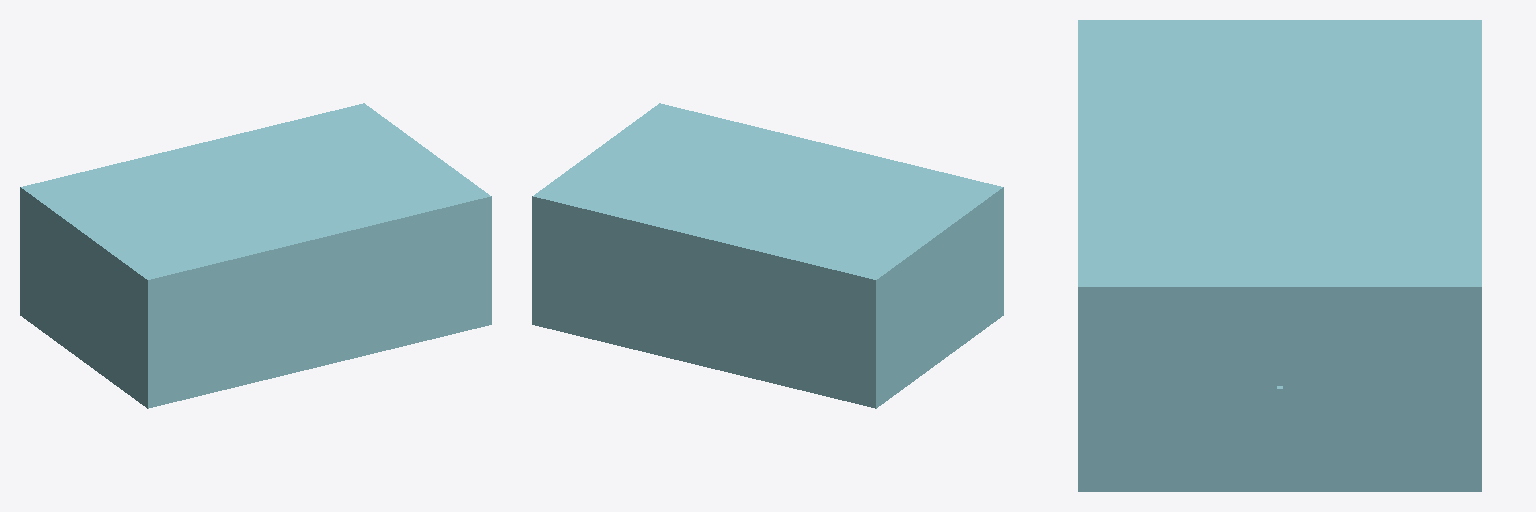
The robot description file, URDF, robot "cuboid_eraser_v7003":
<?xml version="1.0"?>
<robot name="cuboid_eraser_v7003">

  <link name="cuboid_eraser_v7003">
    <!-- Handle -->
    <visual>
      <origin xyz="0 0 0" rpy="0 0 0"/>
      <geometry>
        <box size="0.09784251387276115 0.06266723355720298 0.034947182555945276"/>
      </geometry>
      <material name="material">
        <color rgba="0.639 0.847 0.882 1.0"/>
      </material>
    </visual>
    <collision>
      <origin xyz="0 0 0" rpy="0 0 0"/>
      <geometry>
        <box size="0.09784251387276115 0.06266723355720298 0.034947182555945276"/>
      </geometry>
    </collision>

    <!-- Head -->
    <visual>
      <origin xyz="0.049421256936380574 0 0" rpy="0 0 0"/>
      <geometry>
        <box size="0.001 0.001 0.001"/>
      </geometry>
      <material name="material">
        <color rgba="0.639 0.847 0.882 1.0"/>
      </material>
    </visual>
    <collision>
      <origin xyz="0.049421256936380574 0 0" rpy="0 0 0"/>
      <geometry>
        <box size="0.001 0.001 0.001"/>
      </geometry>
    </collision>

    <inertial>
      <density value="400.0"/>
    </inertial>
  </link>

</robot>

--- Facts derived from the render (not from the file) ---
The picture shows the robot from 3 angles, left to right: view 1: azimuth 30°, elevation 25°; view 2: azimuth 150°, elevation 25°; view 3: azimuth 270°, elevation 25°; orthographic projection.
Robot: cuboid_eraser_v7003 — 1 links, 0 joints (none); root link cuboid_eraser_v7003; default pose: every joint at zero.
Links seen in each view (by area): view 1: cuboid_eraser_v7003; view 2: cuboid_eraser_v7003; view 3: cuboid_eraser_v7003.
Boxes of the visible links, bbox=[...] form: cuboid_eraser_v7003: bbox=[20, 103, 491, 408]; cuboid_eraser_v7003: bbox=[532, 103, 1003, 408]; cuboid_eraser_v7003: bbox=[1078, 20, 1481, 491].
Bounding box of the posed robot: 0.0988 × 0.0627 × 0.0349 m (x, y, z).
Geometry: primitives only (box / cylinder / sphere), no mesh files.
